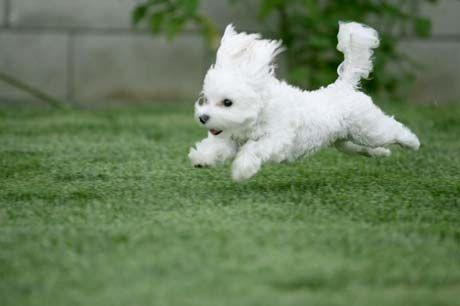puppy-dog: (188, 18, 422, 181)
